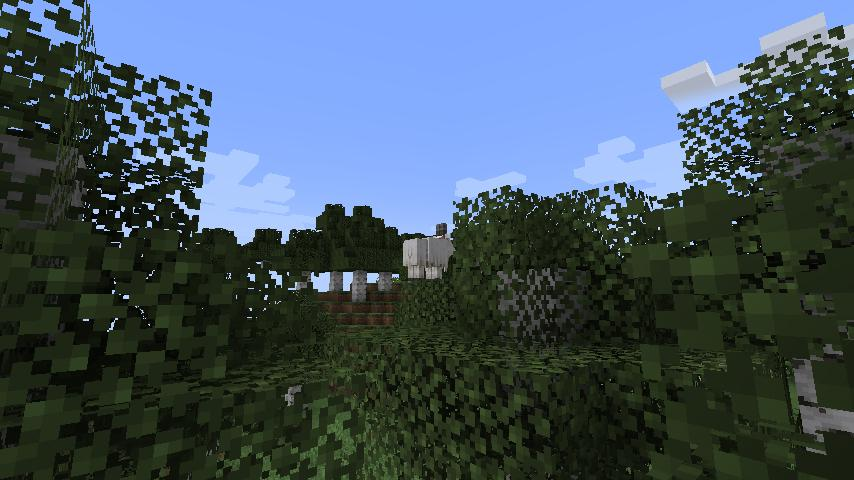goat: (402, 221, 456, 281)
